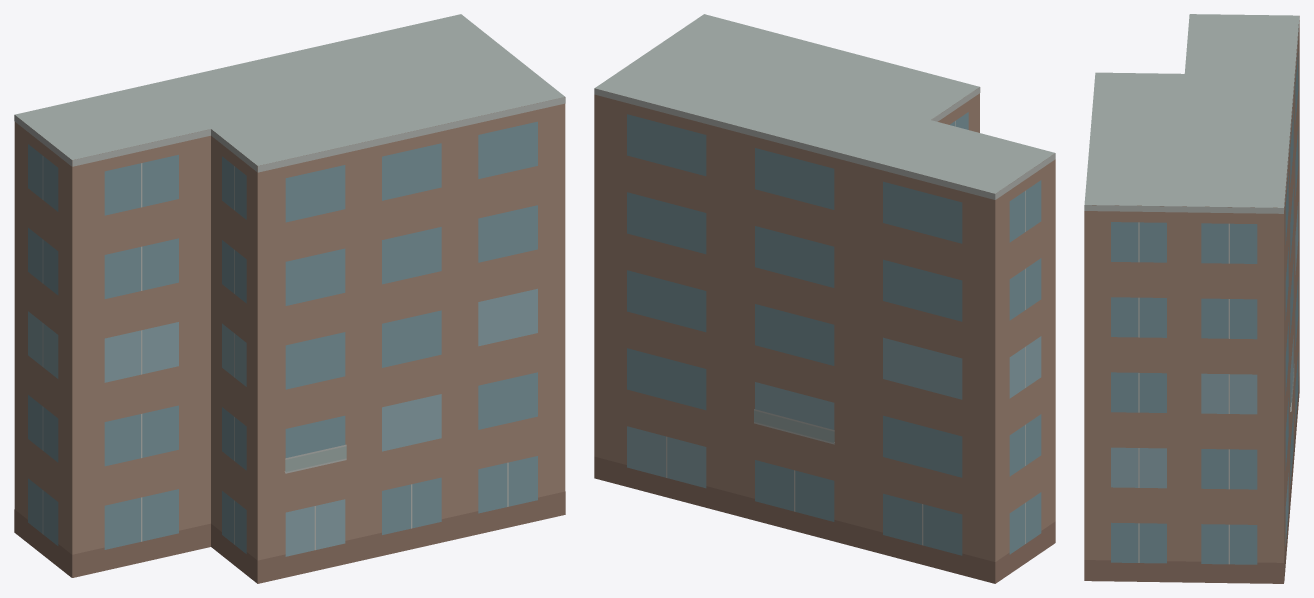
Rendered from residential-0471b6f2-7944-42f6-8b04-d73e2542e81a.glb.
3 views of the same model, side by side, from view 1: azimuth 30°, elevation 25°; view 2: azimuth 150°, elevation 25°; view 3: azimuth 270°, elevation 25° (orthographic). The views are drawn at different scales.
Visible parts, largest first — view 1: residential-0471b6f2-7944-42f6-8b04-d73e2542e81a.tmp; view 2: residential-0471b6f2-7944-42f6-8b04-d73e2542e81a.tmp; view 3: residential-0471b6f2-7944-42f6-8b04-d73e2542e81a.tmp.
Part boxes in pixels (x1=…): residential-0471b6f2-7944-42f6-8b04-d73e2542e81a.tmp: x1=14, y1=14, x2=565, y2=583; residential-0471b6f2-7944-42f6-8b04-d73e2542e81a.tmp: x1=594, y1=14, x2=1055, y2=583; residential-0471b6f2-7944-42f6-8b04-d73e2542e81a.tmp: x1=1084, y1=14, x2=1299, y2=583.
Bounding box in the file's own units: 16.87 × 15.25 × 7.92.
